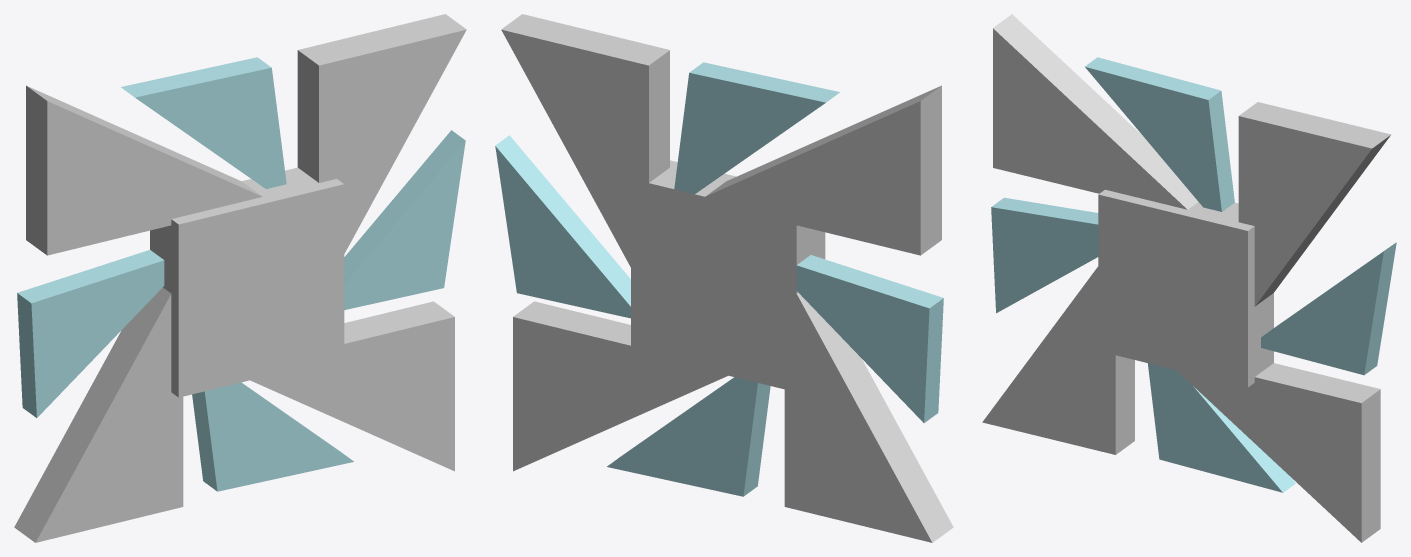
The model's file is DreydenJOJO.gltf.
The picture shows the model from 3 angles, left to right: view 1: azimuth 30°, elevation 25°; view 2: azimuth 150°, elevation 25°; view 3: azimuth 330°, elevation 25°; orthographic projection. The views are drawn at different scales.
Parts seen in each view (by area): view 1: group_0_16448250, group_0_7720667; view 2: group_0_16448250, group_0_7720667; view 3: group_0_16448250, group_0_7720667.
Boxes of the visible parts, <box> form: group_0_16448250: <box>14,14,466,542</box>; group_0_7720667: <box>17,57,465,491</box>; group_0_16448250: <box>501,14,953,542</box>; group_0_7720667: <box>495,62,943,496</box>; group_0_16448250: <box>982,14,1391,542</box>; group_0_7720667: <box>991,57,1396,492</box>.
Bounding box in the file's own units: 74 × 76 × 8.4.
